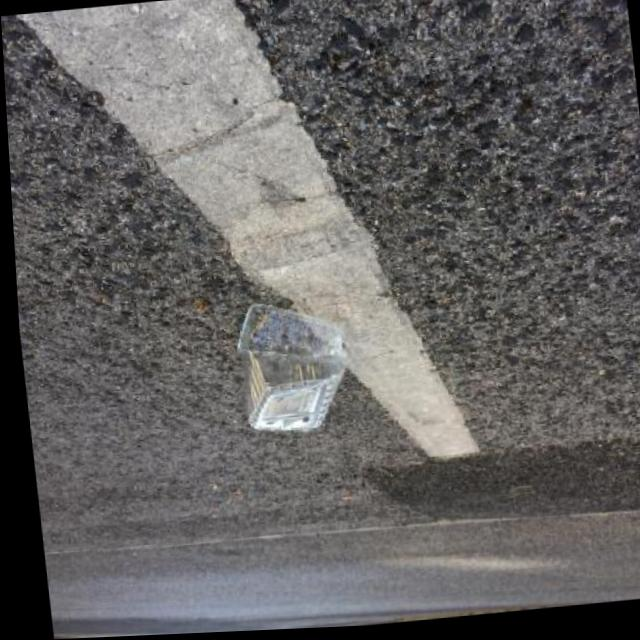plastic: (230, 293, 356, 439)
